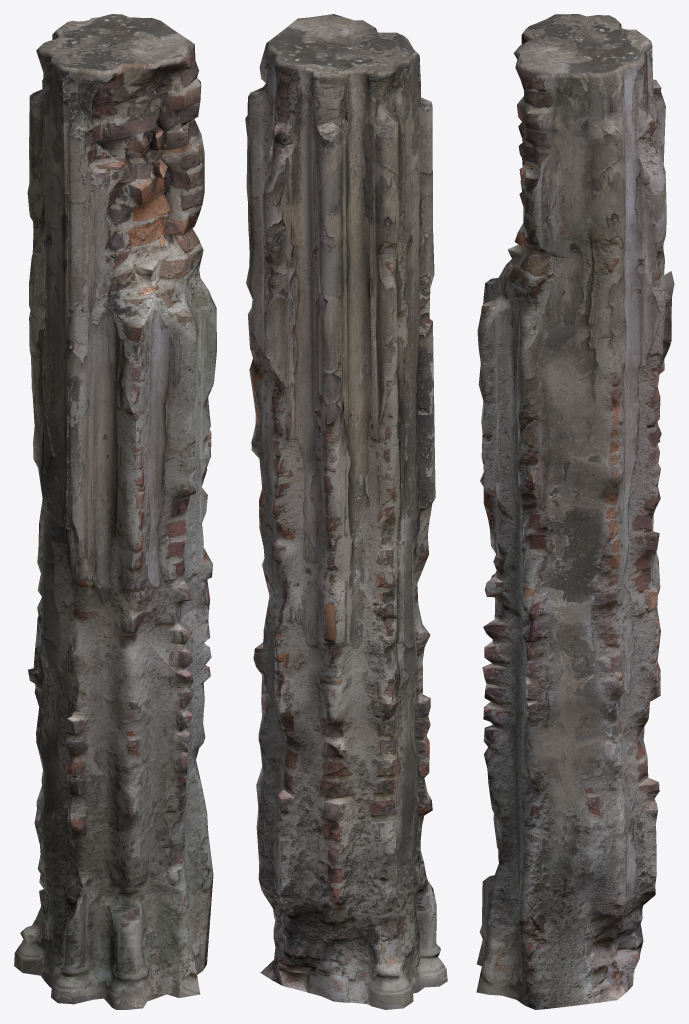
The model's file is SM_ChapelColumn_02_03.fbx.
The picture shows the model from 3 angles, left to right: view 1: azimuth 30°, elevation 25°; view 2: azimuth 150°, elevation 25°; view 3: azimuth 270°, elevation 25°; orthographic projection.
Visible parts, largest first — view 1: sm_ChapelColumn_02_03_LOD0; view 2: sm_ChapelColumn_02_03_LOD0; view 3: sm_ChapelColumn_02_03_LOD0.
Part boxes in pixels (bbox=[...]): sm_ChapelColumn_02_03_LOD0: bbox=[14, 14, 216, 1009]; sm_ChapelColumn_02_03_LOD0: bbox=[245, 14, 447, 1009]; sm_ChapelColumn_02_03_LOD0: bbox=[476, 14, 674, 1009].
Size of the model in its own units: 75.2 by 69.86 by 390.
